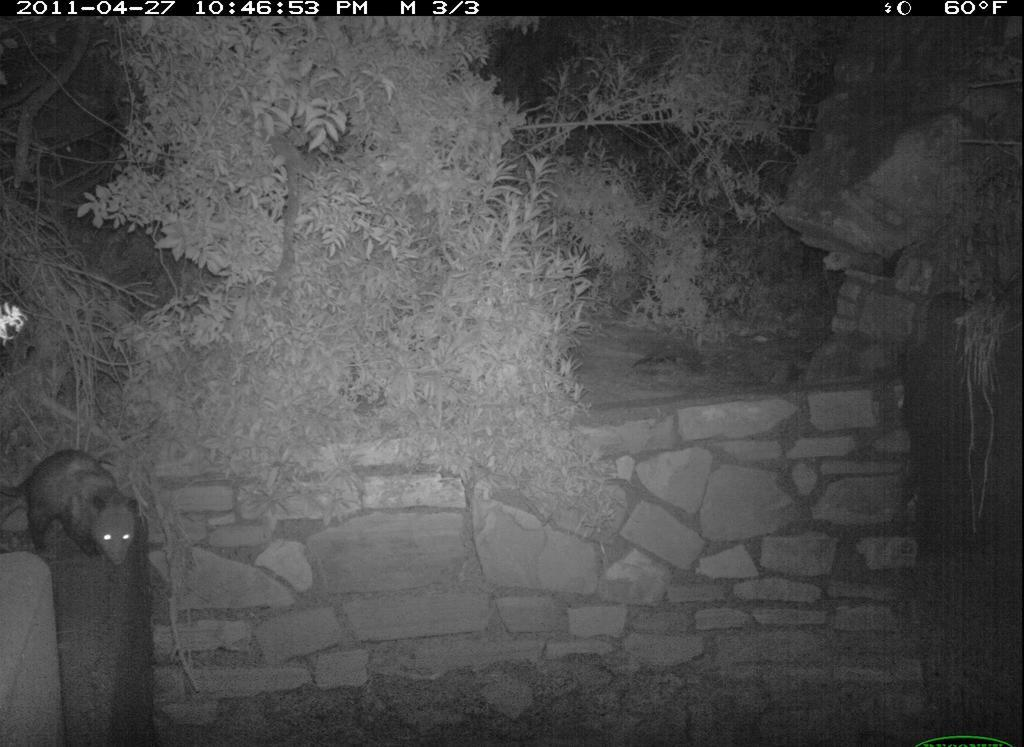opossum: (1, 440, 153, 578)
